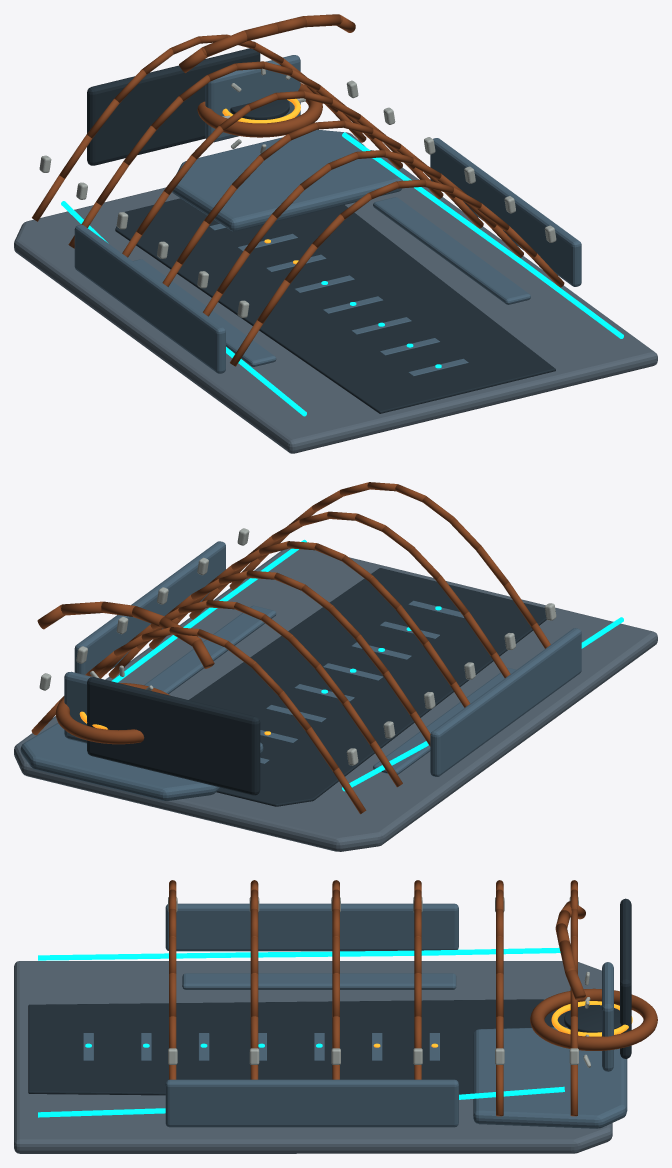
File: pulseReactorEncounterWorldV5.candidate.glb
3 renders of one model, top to bottom at view 1: azimuth 30°, elevation 25°; view 2: azimuth 150°, elevation 25°; view 3: azimuth 270°, elevation 25°, orthographic.
Visible parts, largest first — view 1: continuous chamfered reactor deck, recessed exchange runway, terminal raised command dock, terminal full-width shadow bulkhead, continuous lower containment wall -1, continuous lower containment wall 1, raised service shoulder 1, terminal continuous armored backwall, terminal mechanical iris outer race, raised service shoulder -1, terminal recessed threat well, longitudinal cyan service conduit 1 segment 1 (+1 smaller); view 2: continuous chamfered reactor deck, recessed exchange runway, terminal full-width shadow bulkhead, continuous lower containment wall -1, terminal raised command dock, continuous lower containment wall 1, raised service shoulder 1, terminal mechanical iris outer race, raised service shoulder -1, terminal continuous armored backwall, longitudinal cyan service conduit 1 segment 1; view 3: continuous chamfered reactor deck, recessed exchange runway, continuous lower containment wall 1, continuous lower containment wall -1, terminal raised command dock, raised service shoulder -1, terminal mechanical iris outer race, terminal full-width shadow bulkhead, terminal continuous armored backwall, longitudinal cyan service conduit -1 segment 0, longitudinal cyan service conduit -1 segment 1, terminal recessed threat well (+6 smaller).
Boxes of the visible parts, bbox=[...] form: continuous chamfered reactor deck: bbox=[14, 150, 657, 453]; recessed exchange runway: bbox=[115, 198, 555, 413]; terminal raised command dock: bbox=[172, 129, 402, 231]; terminal full-width shadow bulkhead: bbox=[87, 48, 260, 165]; continuous lower containment wall -1: bbox=[74, 224, 225, 373]; continuous lower containment wall 1: bbox=[430, 138, 581, 286]; raised service shoulder 1: bbox=[373, 197, 530, 304]; terminal continuous armored backwall: bbox=[205, 55, 300, 142]; terminal mechanical iris outer race: bbox=[197, 83, 322, 137]; raised service shoulder -1: bbox=[133, 259, 276, 366]; terminal recessed threat well: bbox=[230, 99, 289, 119]; longitudinal cyan service conduit 1 segment 1: bbox=[422, 190, 526, 266]; continuous chamfered reactor deck: bbox=[14, 548, 657, 851]; recessed exchange runway: bbox=[189, 568, 555, 806]; terminal full-width shadow bulkhead: bbox=[87, 677, 260, 795]; continuous lower containment wall -1: bbox=[430, 628, 581, 776]; terminal raised command dock: bbox=[20, 723, 263, 800]; continuous lower containment wall 1: bbox=[74, 541, 225, 674]; raised service shoulder 1: bbox=[144, 605, 276, 693]; terminal mechanical iris outer race: bbox=[55, 683, 169, 744]; raised service shoulder -1: bbox=[373, 668, 516, 774]; terminal continuous armored backwall: bbox=[64, 671, 92, 743]; longitudinal cyan service conduit 1 segment 1: bbox=[126, 607, 217, 673]; continuous chamfered reactor deck: bbox=[14, 961, 612, 1153]; recessed exchange runway: bbox=[28, 999, 569, 1095]; continuous lower containment wall 1: bbox=[165, 1079, 458, 1127]; continuous lower containment wall -1: bbox=[165, 903, 458, 951]; terminal raised command dock: bbox=[473, 1027, 627, 1128]; raised service shoulder -1: bbox=[182, 973, 456, 989]; terminal mechanical iris outer race: bbox=[530, 988, 657, 1050]; terminal full-width shadow bulkhead: bbox=[620, 898, 631, 1058]; terminal continuous armored backwall: bbox=[602, 962, 613, 1071]; longitudinal cyan service conduit -1 segment 0: bbox=[38, 952, 225, 960]; longitudinal cyan service conduit -1 segment 1: bbox=[225, 950, 414, 957]; terminal recessed threat well: bbox=[564, 1005, 621, 1032].
Bounding box in the file's own units: 9 × 4.04 × 13.39.
